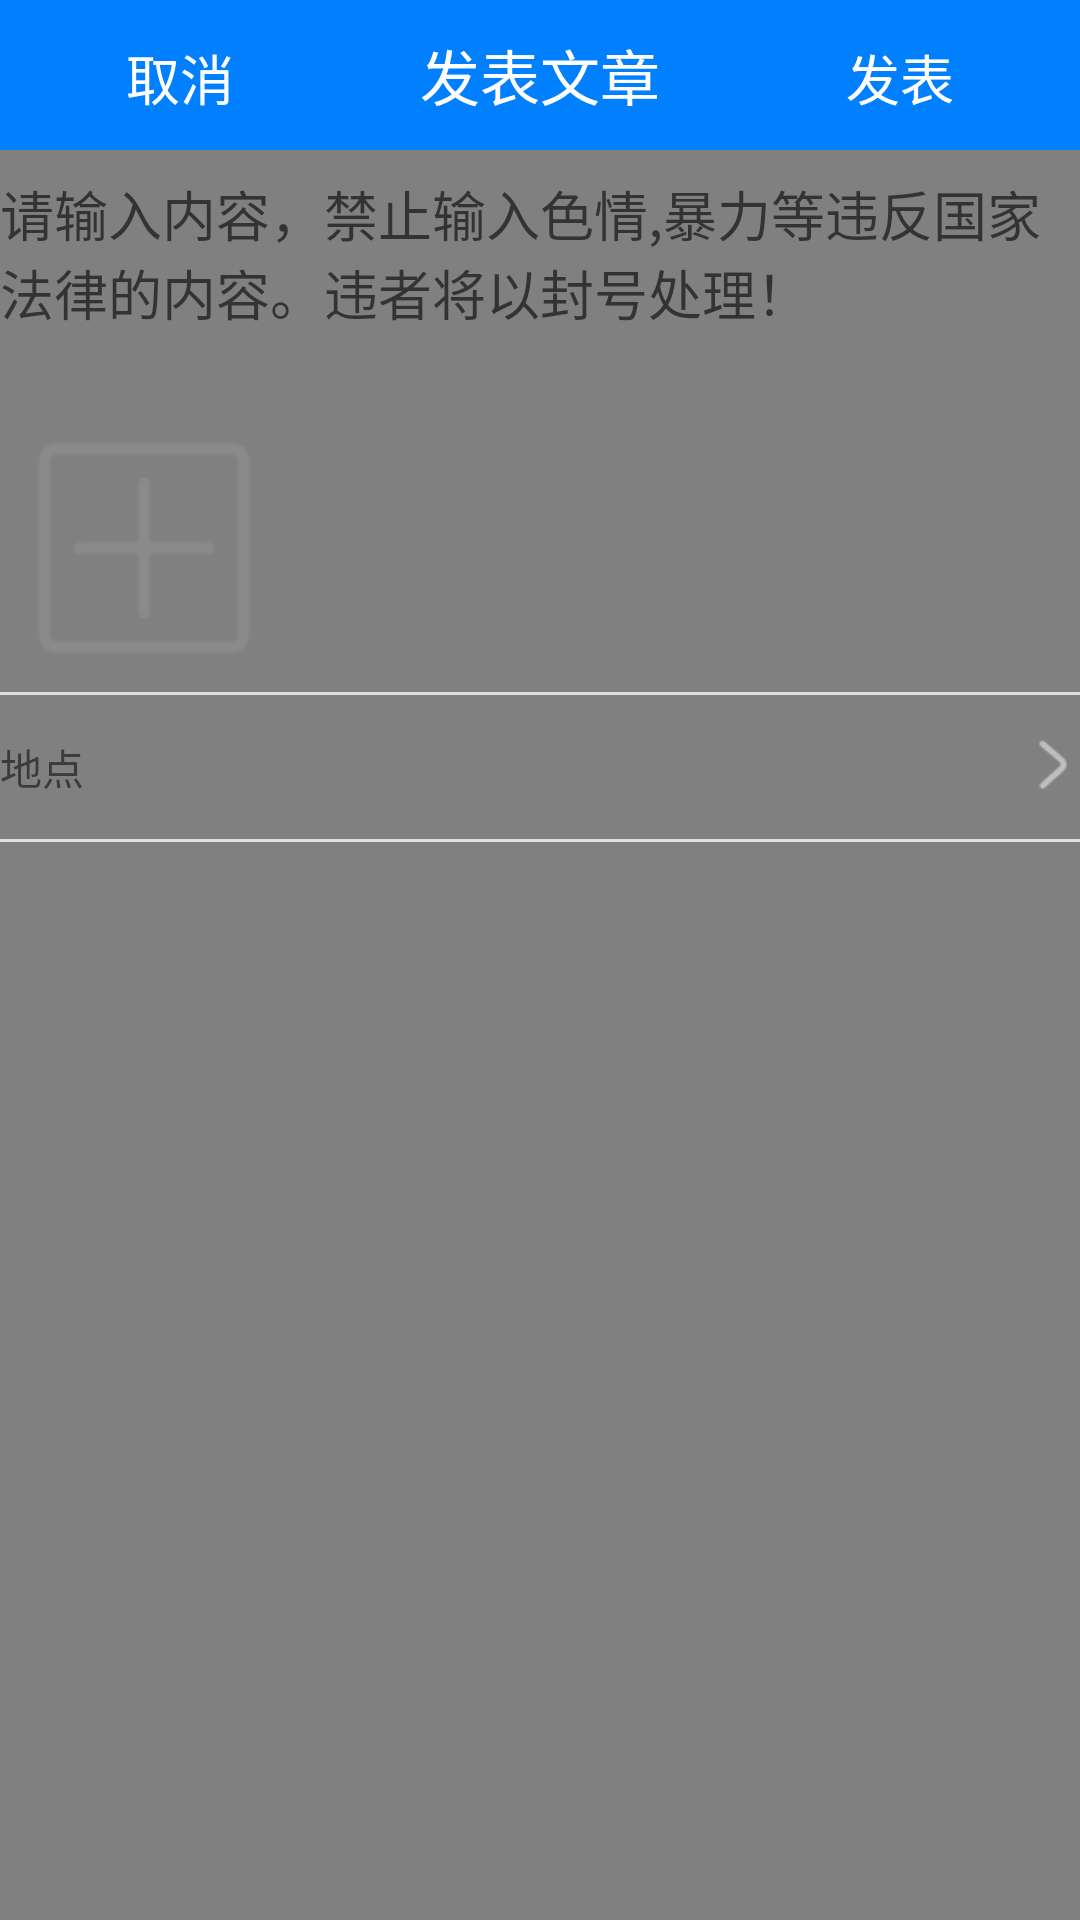

Named icons in this screenshot (1080px×1920px) and their bounding boxes, {"left": x1, "top": y1, "right": x2, "bottom": y2}:
arrow: {"left": 1039, "top": 741, "right": 1067, "bottom": 789}
